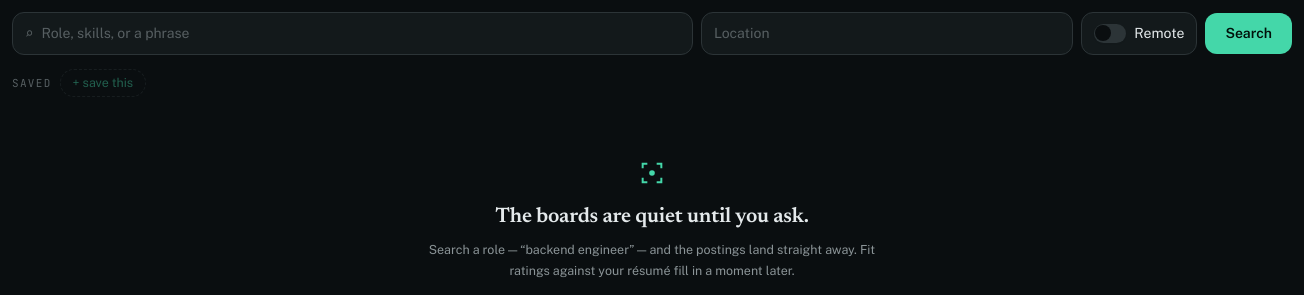
sourcing workspace › says why nothing is rated instead of inventing a tier
Type "backend" into the field with test id "search-keywords" at [361, 34], box 41,23 -> 680,44
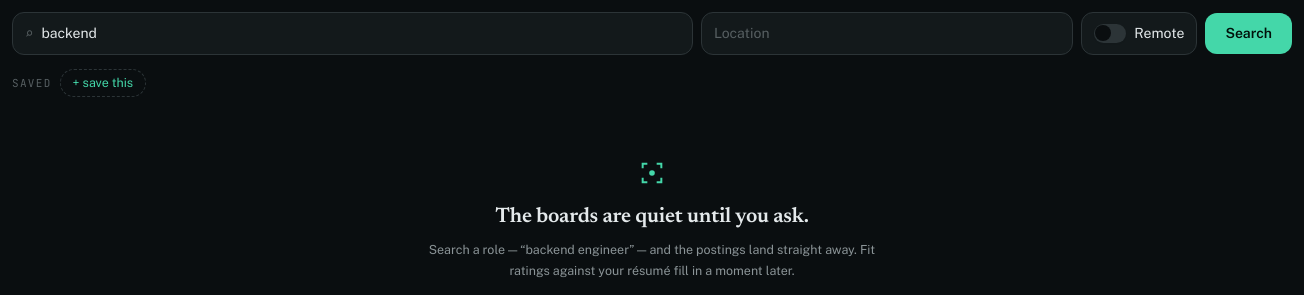
Click the button with test id "search-jobs" at [1249, 34], box 1205,13 -> 1292,54
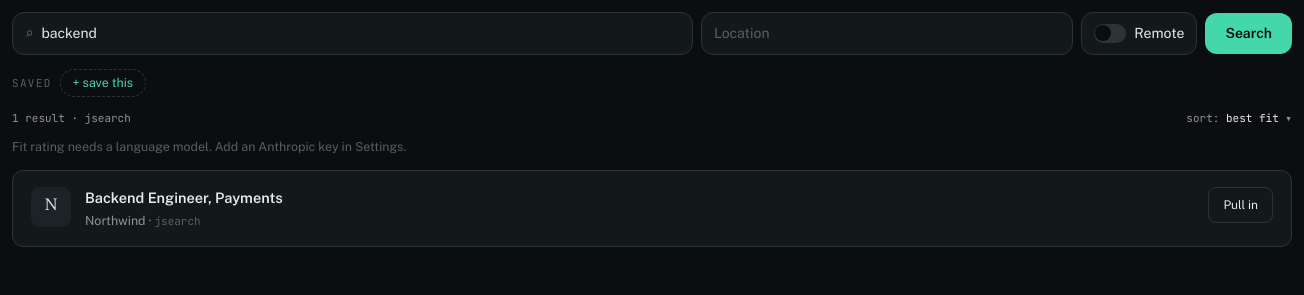
Expected: the text with test id "rating-unavailable" shows "Add an Anthropic key in Settings", 12,140 -> 406,154
Expected: the element with test id "sourcing-result" is shown, 12,170 -> 1292,247
